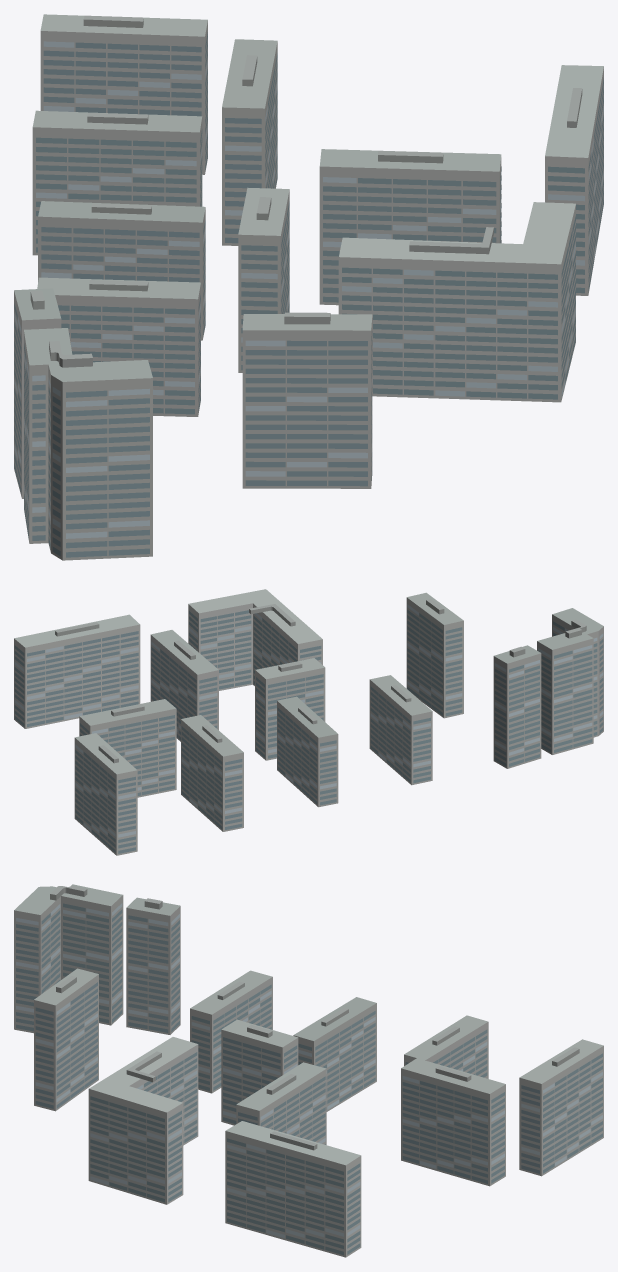
Rendered from apt-a15780904.glb.
3 renders of one model, top to bottom at view 1: azimuth 30°, elevation 25°; view 2: azimuth 150°, elevation 25°; view 3: azimuth 270°, elevation 25°, orthographic. The views are drawn at different scales.
Parts seen in each view (by area): view 1: apt-a15780904; view 2: apt-a15780904; view 3: apt-a15780904.
Part boxes in pixels (left/top/right/bottom): apt-a15780904: left=14, top=14, right=603, bottom=560; apt-a15780904: left=14, top=589, right=603, bottom=855; apt-a15780904: left=14, top=884, right=603, bottom=1257.
Bounding box in the file's own units: 231 × 53 × 227.
